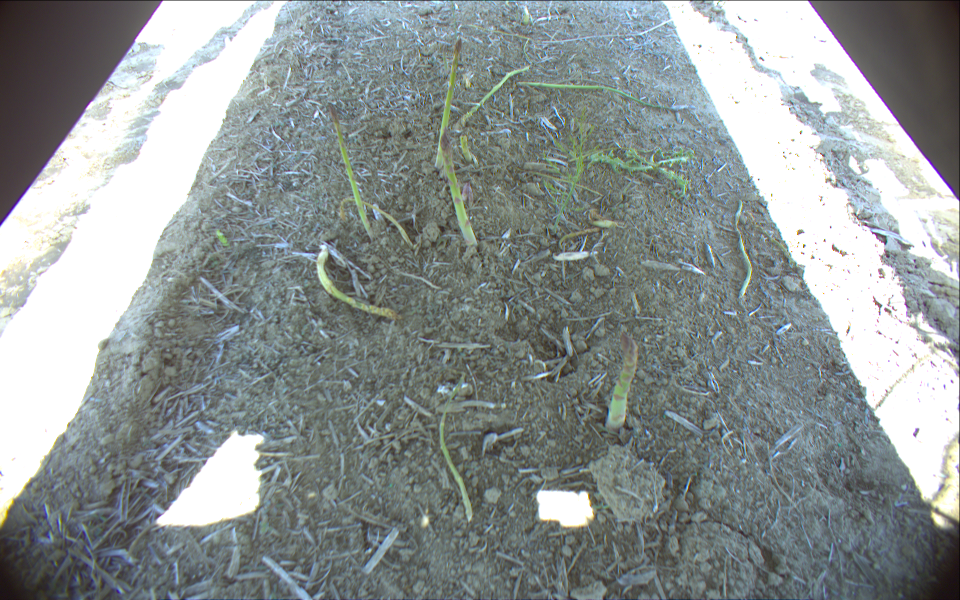aspa: (322, 101, 376, 244), (435, 130, 481, 252), (431, 37, 464, 172), (600, 330, 639, 436)
